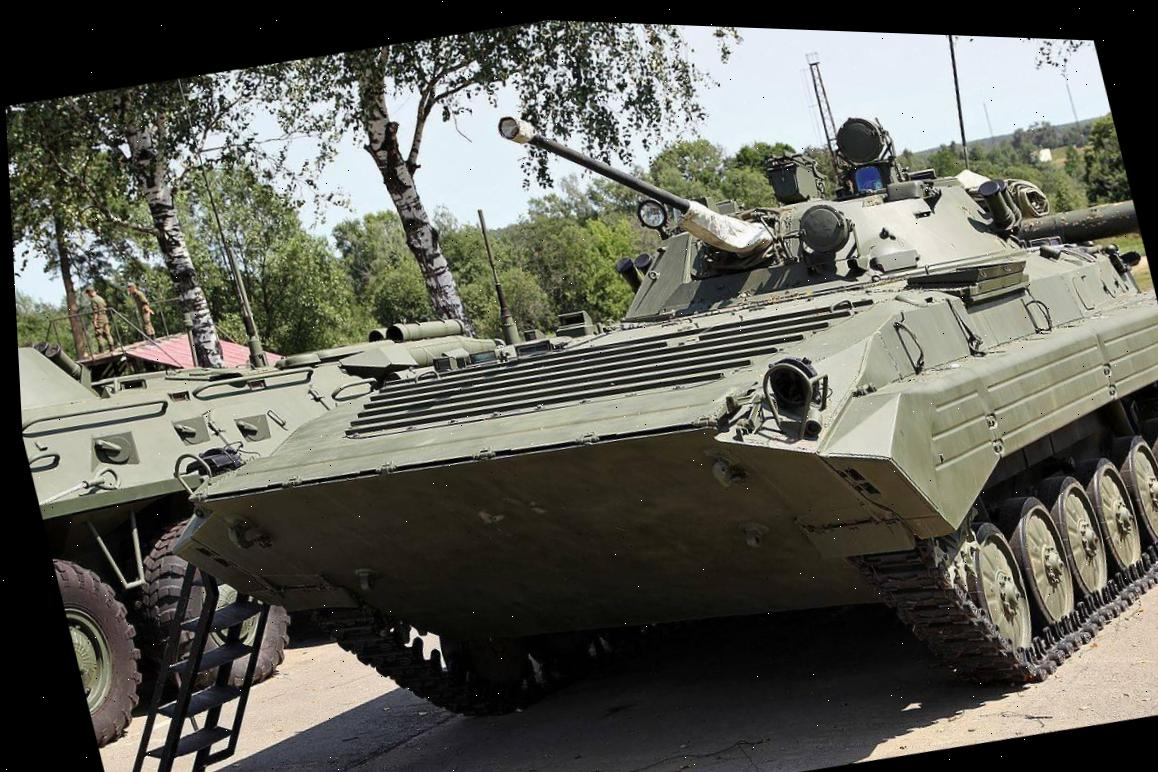tank: (63, 2, 1158, 772), (13, 247, 568, 772)
